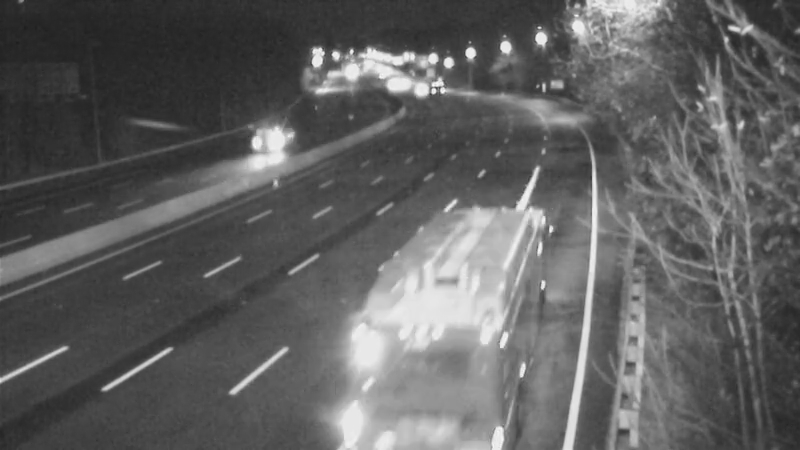vehicle: (437, 253, 517, 333), (370, 59, 420, 109), (407, 59, 457, 109), (391, 65, 441, 115), (241, 120, 291, 170)
